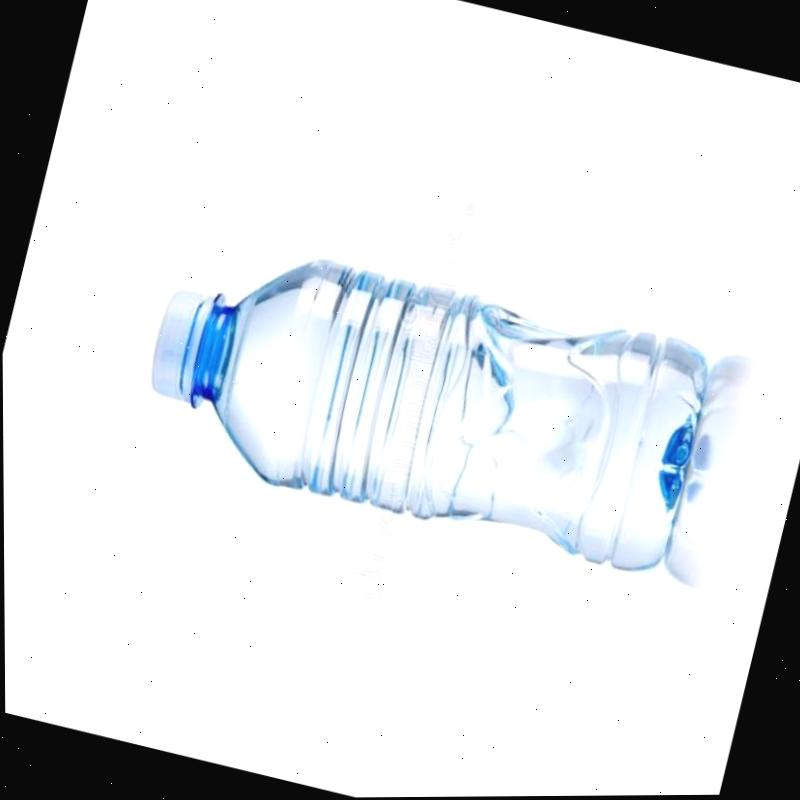botella: (127, 211, 720, 580)
